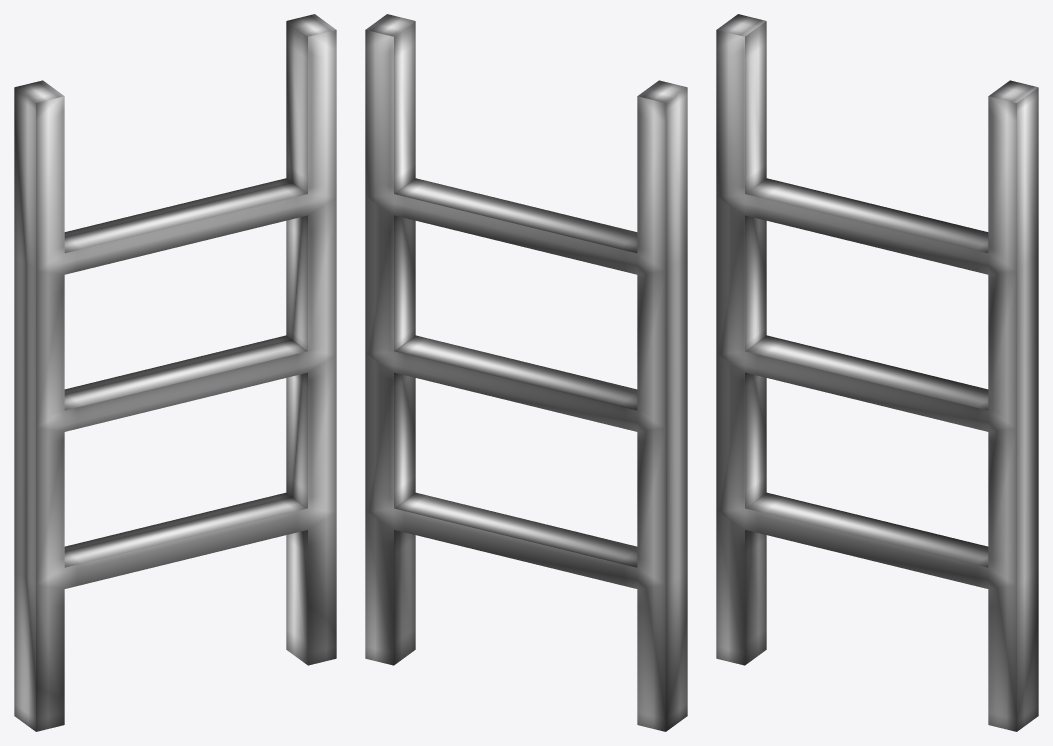
The model's file is Ladder-01.fbx.
The picture shows the model from 3 angles, left to right: view 1: azimuth 30°, elevation 25°; view 2: azimuth 150°, elevation 25°; view 3: azimuth 330°, elevation 25°; orthographic projection.
Visible parts, largest first — view 1: Ladder-01; view 2: Ladder-01; view 3: Ladder-01.
Part boxes in pixels (x1,y1,x2,y2): Ladder-01: (14,14,336,731); Ladder-01: (365,14,687,731); Ladder-01: (716,14,1038,731).
Bounding box in the file's own units: 0.5 × 1 × 0.0625.
